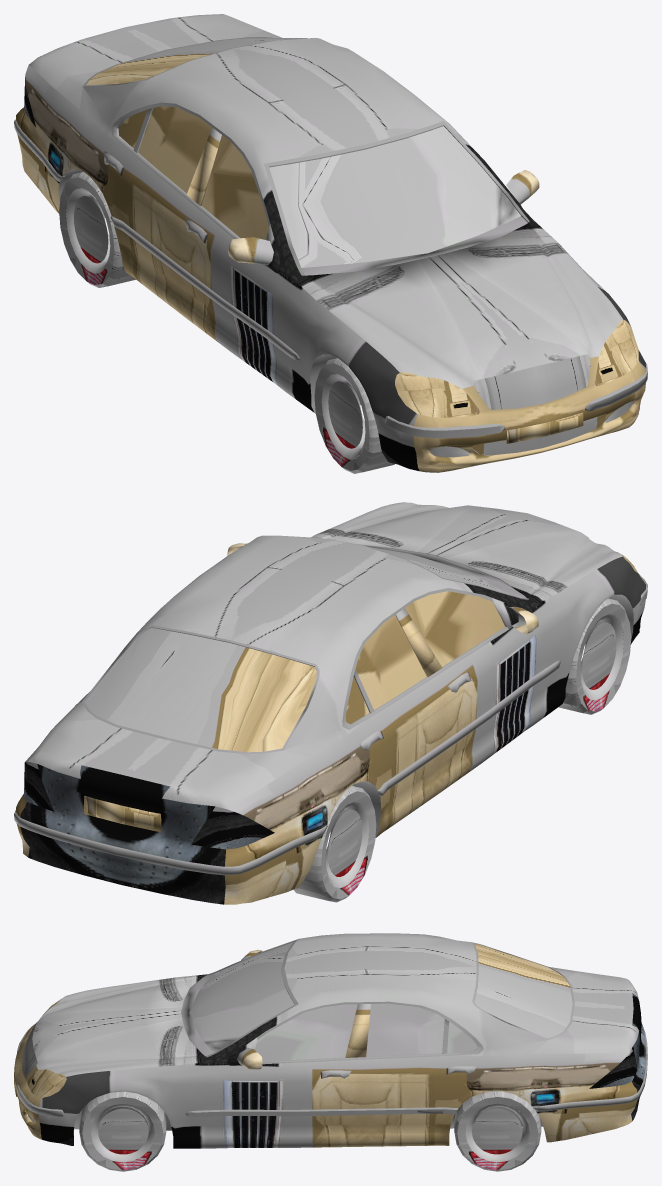
File: car.obj
3 views of the same model, one above another, from view 1: azimuth 30°, elevation 25°; view 2: azimuth 150°, elevation 25°; view 3: azimuth 270°, elevation 25° (orthographic). The views are drawn at different scales.
Parts seen in each view (by area): view 1: natla_car; view 2: natla_car; view 3: natla_car.
Part boxes in pixels (left/top/right/bottom): natla_car: left=14, top=14, right=647, bottom=473; natla_car: left=14, top=502, right=647, bottom=904; natla_car: left=14, top=933, right=647, bottom=1171.
Size of the model in its own units: 2.88 by 2.05 by 7.04.
